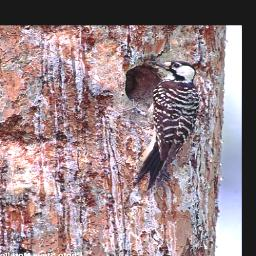Woodpecker: (135, 59, 199, 190)
